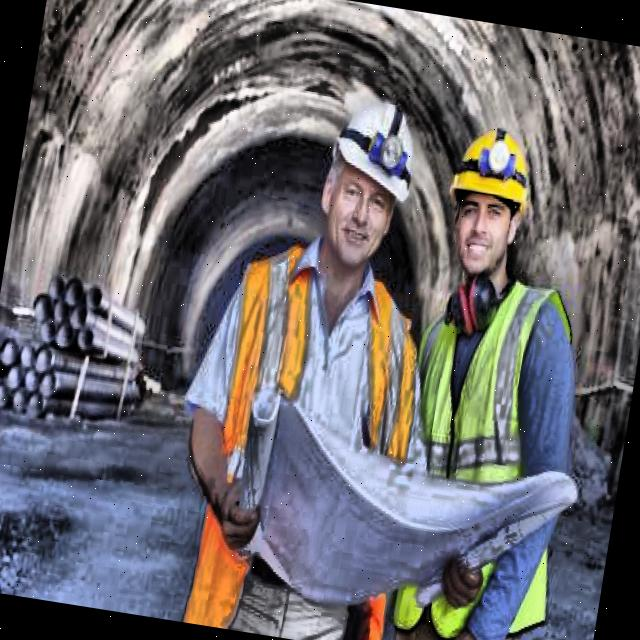helmet: (304, 82, 432, 288), (429, 115, 546, 300)
